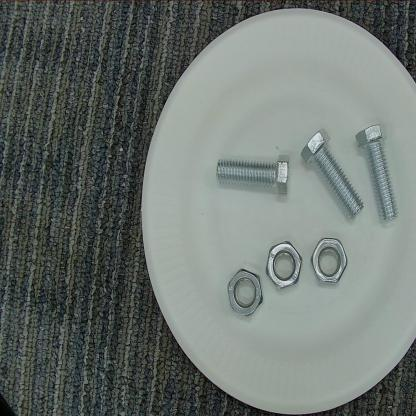FOD: (295, 124, 368, 224), (352, 120, 401, 228), (214, 146, 296, 205), (221, 263, 268, 328), (260, 240, 306, 297), (310, 236, 354, 291)
